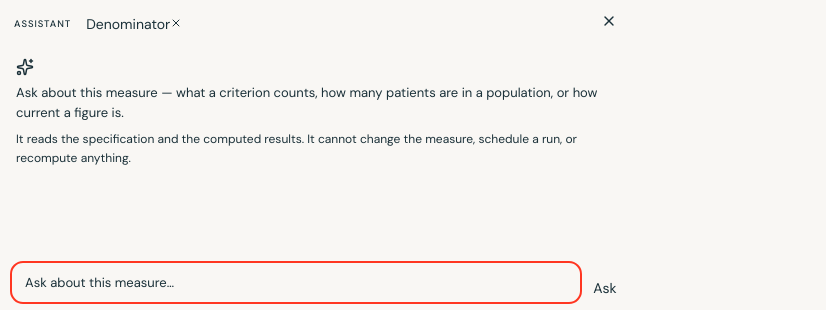
Test: provenance (SVC-ANSWER-PROVENANCE) › labels each source by whose number it is
Type "How many are controlled?" into the text box named "Ask a question" at coordinates (296, 282), box [14, 264, 578, 300]
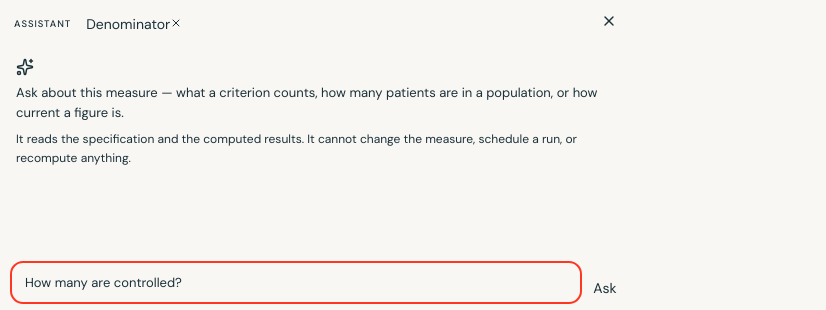
Click the button "Ask" at coordinates (605, 288), box [587, 277, 623, 300]
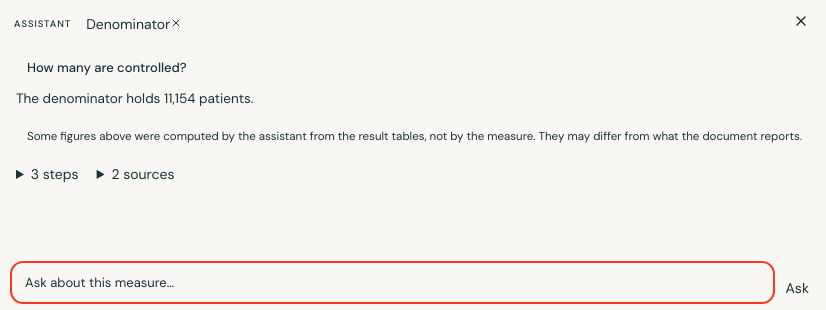
Click the heading "2 sources" at coordinates (143, 174), box [111, 165, 174, 183]
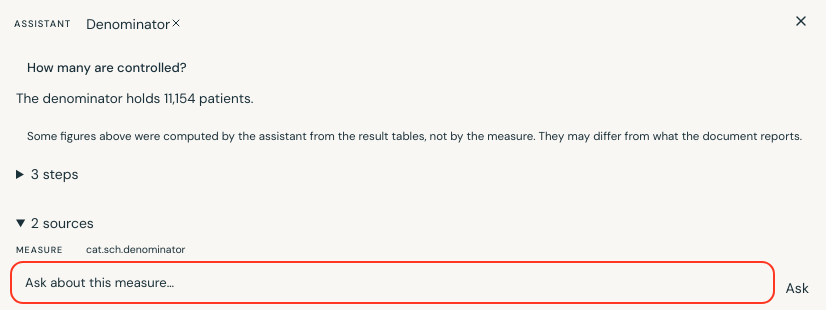
Now the text "measure" is shown, box [16, 244, 63, 254]
